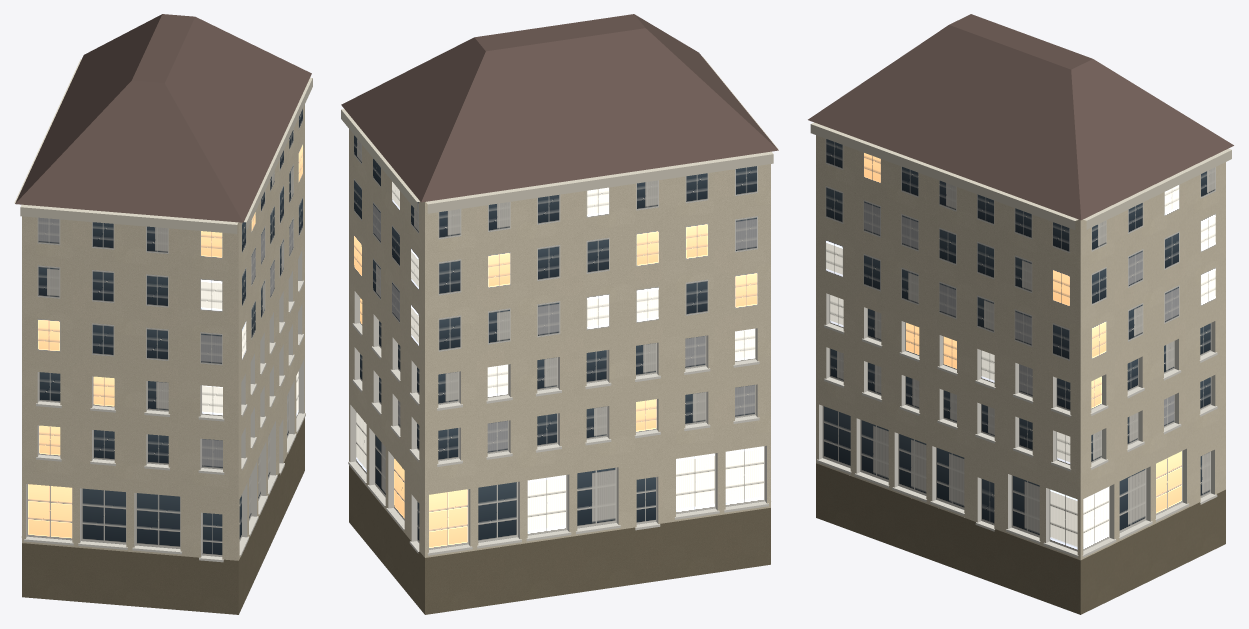
Rendered from z3c_al_s_cream.glb.
3 renders of one model, left to right at view 1: azimuth 30°, elevation 25°; view 2: azimuth 150°, elevation 25°; view 3: azimuth 270°, elevation 25°, orthographic. The views are drawn at different scales.
Visible parts, largest first — view 1: z3c_al_s_cream; view 2: z3c_al_s_cream; view 3: z3c_al_s_cream.
Part boxes in pixels (left/top/right/bottom): z3c_al_s_cream: left=14, top=14, right=312, bottom=614; z3c_al_s_cream: left=341, top=14, right=778, bottom=614; z3c_al_s_cream: left=808, top=14, right=1233, bottom=614.
Size of the model in its own units: 20.69 by 26.9 by 21.29.
3 materials, 3 textured.
